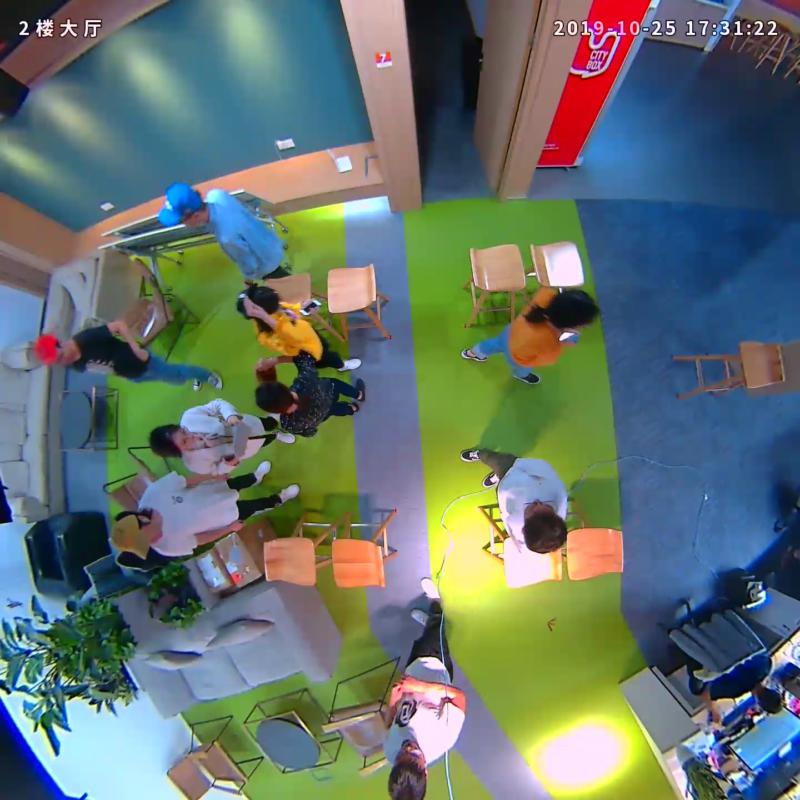head: (520, 500, 568, 554), (155, 181, 206, 230), (110, 513, 162, 561), (387, 739, 427, 800), (545, 287, 597, 330), (237, 282, 283, 324), (149, 423, 196, 458), (254, 379, 296, 413), (32, 334, 75, 365)
